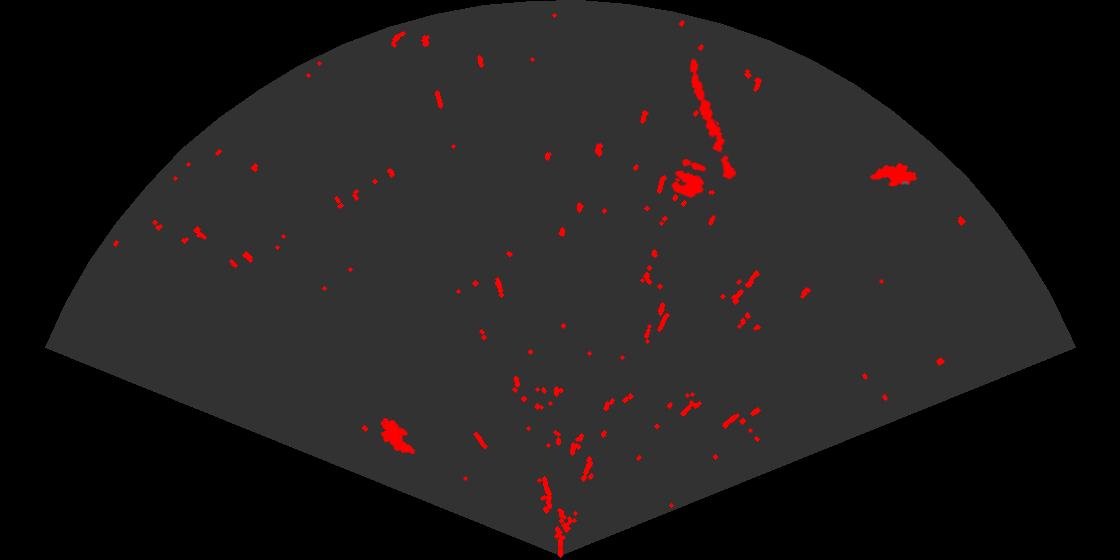AUV: (379, 416, 416, 456), (868, 161, 919, 188)
ball: (669, 157, 708, 200)
chain: (688, 57, 738, 182)
